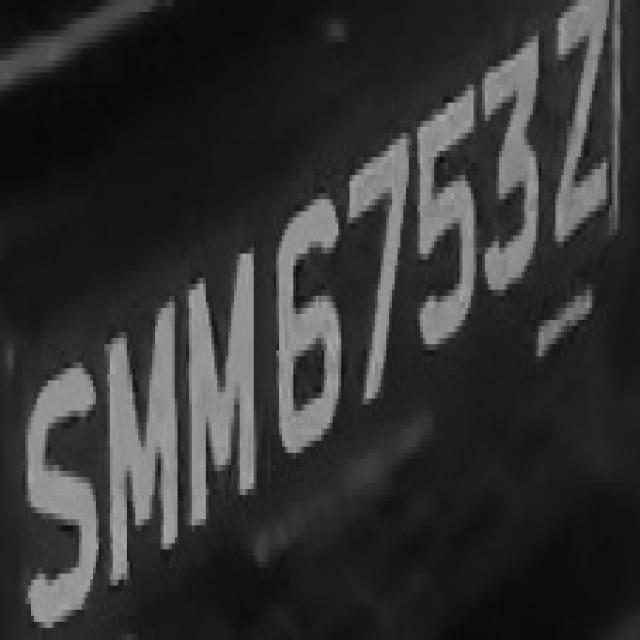3: (476, 42, 538, 302)
5: (412, 79, 482, 350)
6: (262, 169, 347, 459)
7: (344, 114, 414, 404)
M: (98, 278, 180, 586), (175, 254, 262, 531)
S: (11, 332, 99, 640)
Z: (550, 0, 617, 254)
